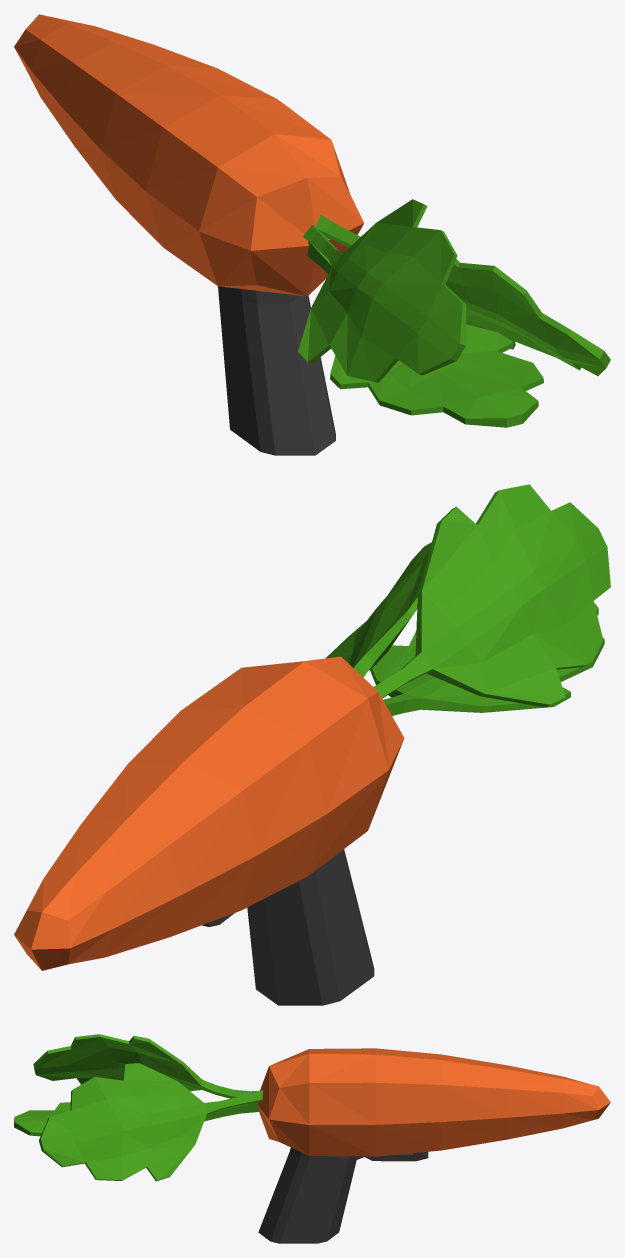
Rendered from carrot_blaster.glb.
The picture shows the model from 3 angles, top to bottom: view 1: azimuth 30°, elevation 25°; view 2: azimuth 150°, elevation 25°; view 3: azimuth 270°, elevation 25°; orthographic projection. The views are drawn at different scales.
Visible parts, largest first — view 1: Node, Pistol_02_Cube; view 2: Node, Pistol_02_Cube; view 3: Node, Pistol_02_Cube.
Boxes of the visible parts, x1=… form: Node: x1=14, y1=14, x2=610, y2=427; Pistol_02_Cube: x1=218, y1=286, x2=335, y2=455; Node: x1=14, y1=484, x2=610, y2=970; Pistol_02_Cube: x1=202, y1=849, x2=374, y2=1005; Node: x1=14, y1=1034, x2=610, y2=1181; Pistol_02_Cube: x1=258, y1=1147, x2=428, y2=1243.
Bounding box in the file's own units: 2.54 × 3.34 × 9.09.
